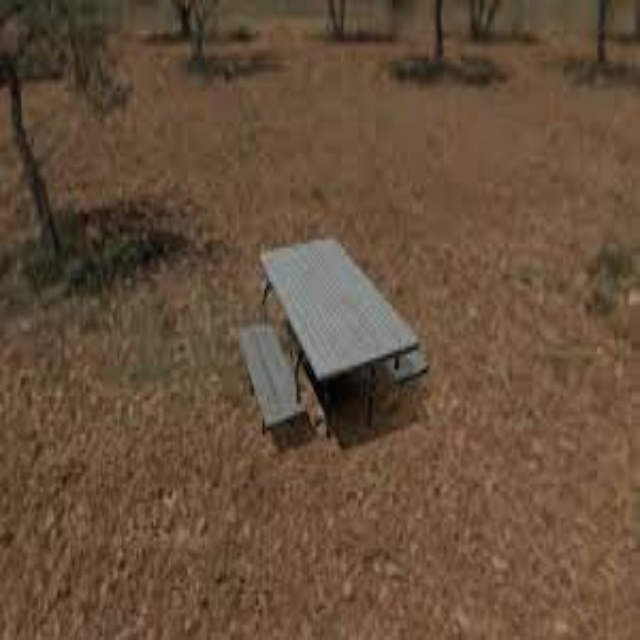obstacle: (245, 221, 427, 457)
